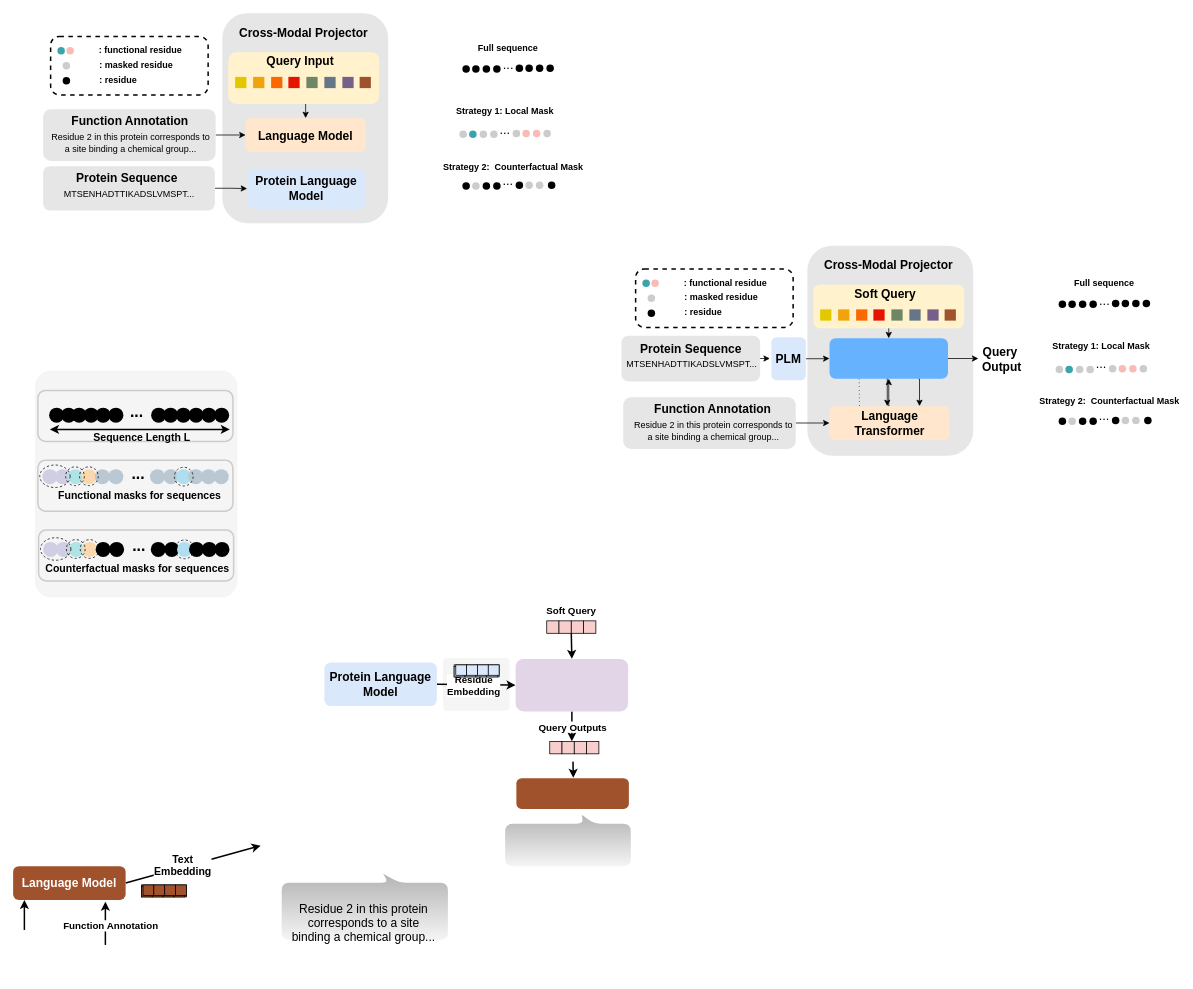
Image size: 1193x989. Some labels were removed from this diagram. Here are the shapes that lost their labels. From the top down, the centre of each, then its label:
the point at 888,358: Protein Transformer
the point at 571,684: Q-Former Module (BLIP2-style)
the point at 572,793: LLM Decoder
